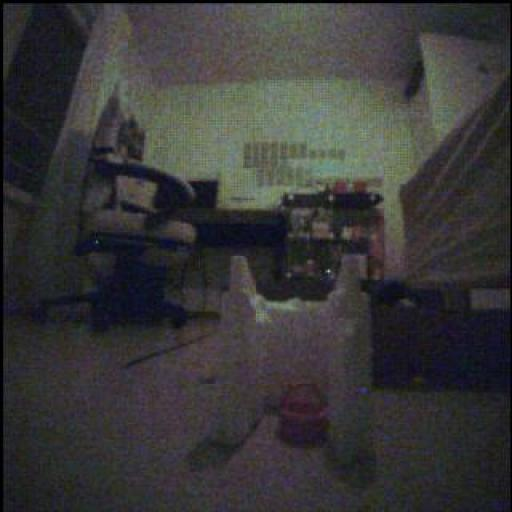basket: (281, 383, 329, 446), (353, 180, 369, 195), (336, 180, 349, 195)
